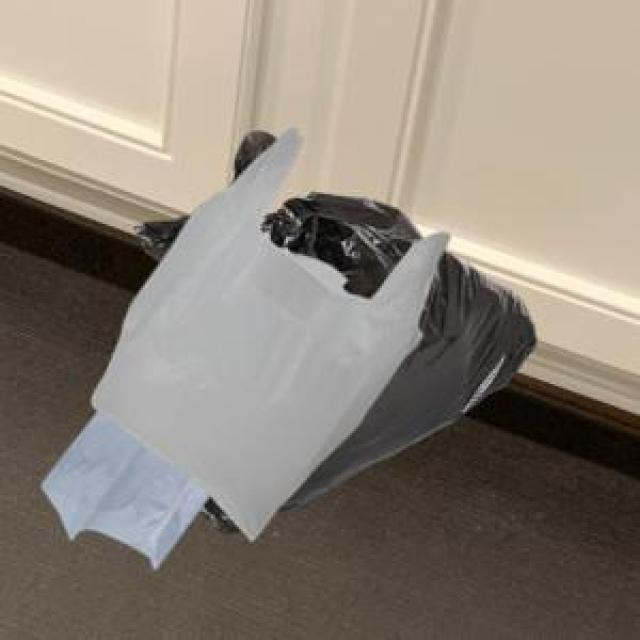miscellaneous trash: (130, 128, 531, 529)
